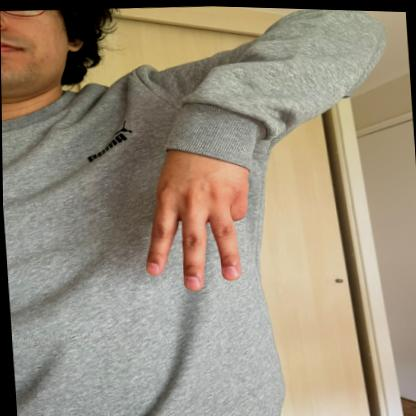M: (133, 106, 258, 293)
